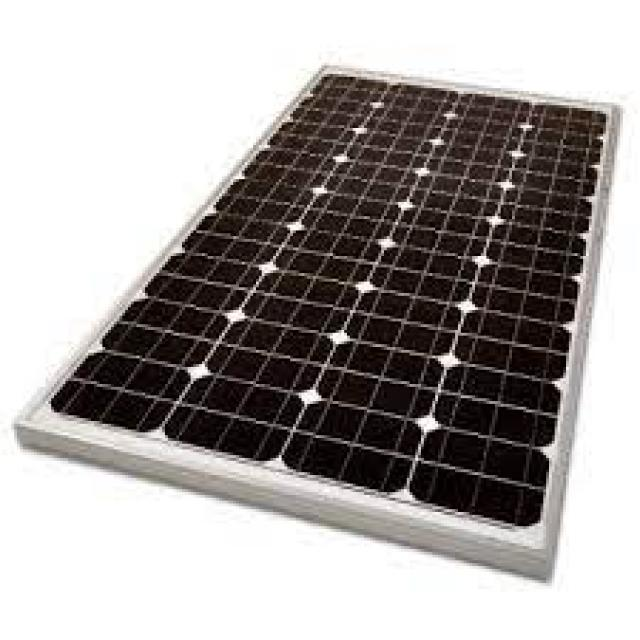no faulty: (44, 63, 612, 529)
